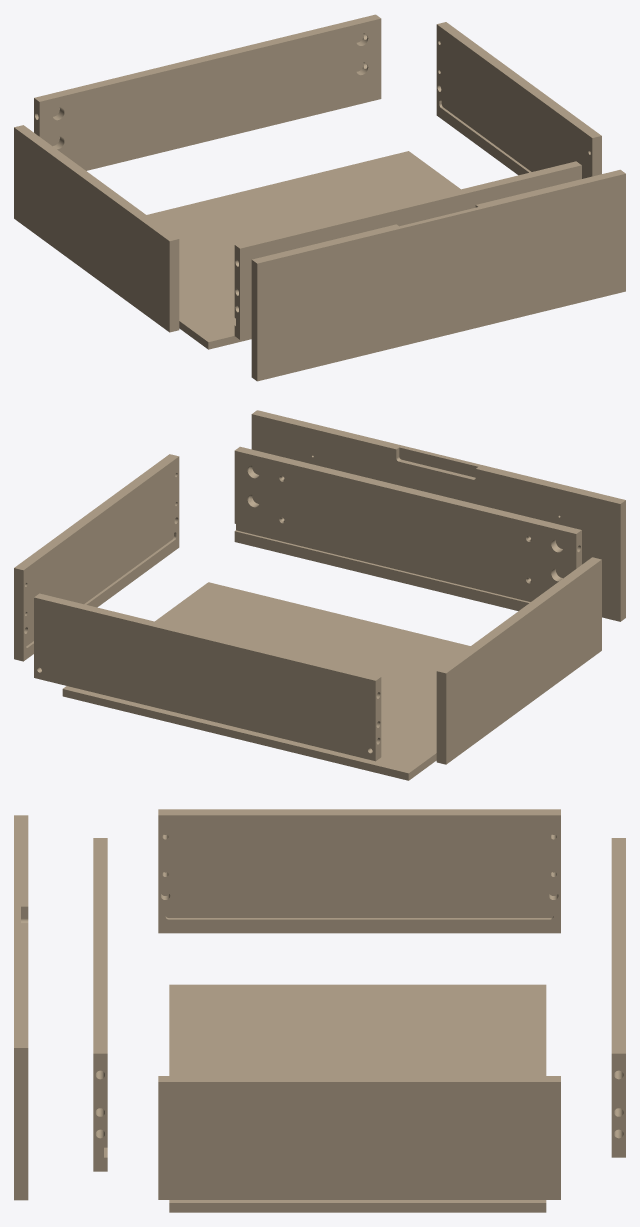
File: exploded.glb
3 views of the same model, one above another, from view 1: azimuth 30°, elevation 25°; view 2: azimuth 150°, elevation 25°; view 3: azimuth 270°, elevation 25° (orthographic). The views are drawn at different scales.
Parts seen in each view (by area): view 1: face, rear, bottom, left, right, front; view 2: front, rear, bottom, face, left, right; view 3: left, right, bottom, face, front, rear.
Boxes of the visible parts, x1=… form: face: x1=251, y1=169, x2=625, y2=381; rear: x1=34, y1=14, x2=381, y2=170; bottom: x1=147, y1=151, x2=460, y2=349; left: x1=14, y1=125, x2=179, y2=332; right: x1=436, y1=22, x2=601, y2=178; front: x1=234, y1=161, x2=581, y2=339; front: x1=234, y1=446, x2=581, y2=610; rear: x1=34, y1=593, x2=381, y2=761; bottom: x1=62, y1=582, x2=470, y2=780; face: x1=251, y1=410, x2=625, y2=621; left: x1=436, y1=557, x2=601, y2=764; right: x1=14, y1=454, x2=179, y2=661; left: x1=158, y1=809, x2=560, y2=933; right: x1=158, y1=1076, x2=560, y2=1199; bottom: x1=169, y1=984, x2=546, y2=1212; face: x1=14, y1=815, x2=28, y2=1200; front: x1=93, y1=838, x2=107, y2=1171; rear: x1=611, y1=838, x2=625, y2=1157.
Size of the model in its own units: 0.545 by 0.16 by 0.517.
